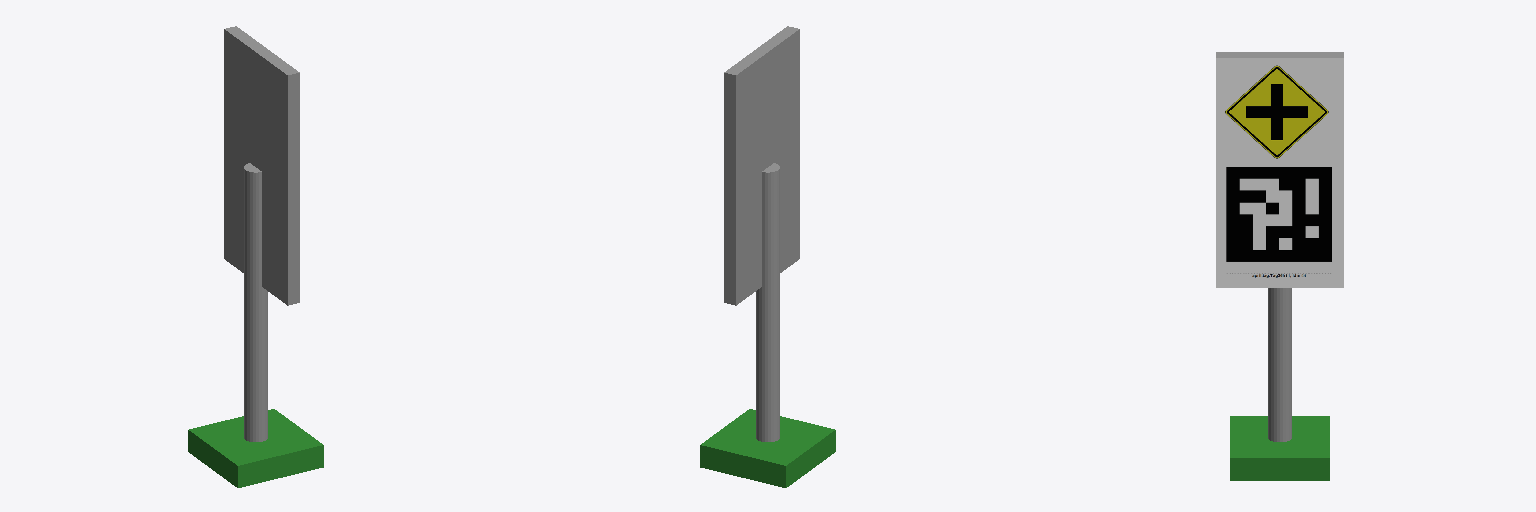
3 views of the same model, side by side, from view 1: azimuth 30°, elevation 25°; view 2: azimuth 150°, elevation 25°; view 3: azimuth 270°, elevation 25° (orthographic).
Parts seen in each view (by area): view 1: SketchUp.002_ID23, SketchUp_ID2, SketchUp.001_ID10; view 2: SketchUp.002_ID23, SketchUp_ID2, SketchUp.001_ID10; view 3: SketchUp.003_ID31, SketchUp_ID2, SketchUp.001_ID10, SketchUp.002_ID23.
Boxes of the visible parts, x1,y1,x2,y2 form: SketchUp.002_ID23: [224, 26, 299, 305]; SketchUp_ID2: [188, 409, 323, 487]; SketchUp.001_ID10: [244, 163, 267, 441]; SketchUp.002_ID23: [724, 26, 799, 305]; SketchUp_ID2: [700, 409, 835, 487]; SketchUp.001_ID10: [756, 163, 779, 441]; SketchUp.003_ID31: [1216, 58, 1343, 287]; SketchUp_ID2: [1230, 416, 1329, 480]; SketchUp.001_ID10: [1268, 288, 1291, 441]; SketchUp.002_ID23: [1216, 52, 1343, 57].
Bounding box in the file's own units: 0.0508 × 0.2301 × 0.065.
3 materials, 1 textured.